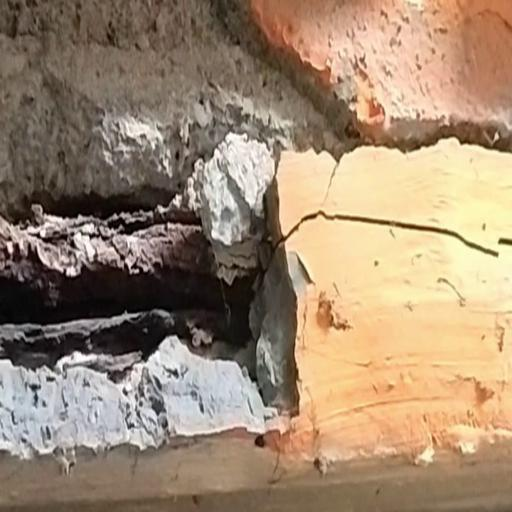spalling: (0, 0, 338, 458)
